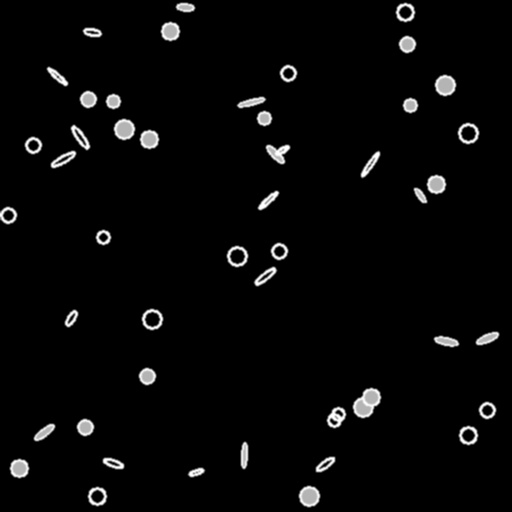pseudomonas: (360, 151, 380, 177), (70, 125, 90, 149), (253, 266, 277, 286), (50, 150, 76, 168), (46, 66, 68, 86), (257, 190, 279, 210), (265, 144, 285, 164), (33, 423, 55, 441), (315, 455, 335, 473), (237, 96, 265, 108), (476, 331, 498, 345), (102, 456, 124, 470), (64, 309, 78, 327), (413, 187, 427, 203), (435, 336, 457, 346), (274, 144, 290, 156), (188, 467, 204, 477), (84, 27, 100, 37), (241, 443, 247, 467), (176, 3, 194, 11)
synechocystis: (115, 120, 133, 138), (354, 398, 372, 416), (143, 310, 161, 328), (300, 487, 318, 505), (459, 124, 477, 142), (228, 247, 246, 265), (436, 76, 454, 94), (162, 23, 178, 39), (460, 427, 476, 443), (11, 460, 27, 476), (89, 488, 105, 504), (428, 176, 444, 192), (363, 389, 379, 405), (397, 4, 413, 20), (141, 131, 157, 147), (81, 92, 95, 106), (140, 369, 154, 383), (26, 138, 40, 152), (272, 244, 286, 258), (78, 420, 92, 434), (281, 66, 295, 80), (480, 403, 494, 417), (400, 37, 414, 51), (1, 208, 15, 222), (332, 408, 344, 420), (107, 95, 119, 107), (258, 112, 270, 124), (404, 99, 416, 111), (328, 414, 340, 426), (97, 231, 109, 243)
